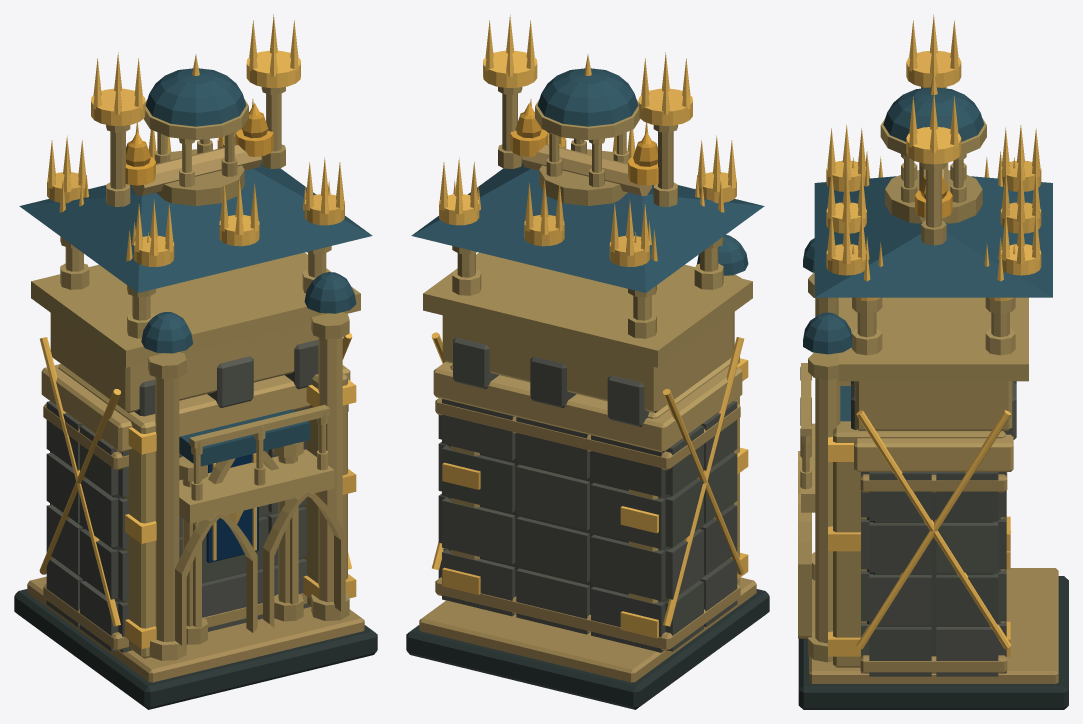
3 renders of one model, left to right at view 1: azimuth 30°, elevation 25°; view 2: azimuth 150°, elevation 25°; view 3: azimuth 270°, elevation 25°, orthographic.
Visible parts, largest first — view 1: wall_L13_0, wall_L13_1; view 2: wall_L13_0, wall_L13_1; view 3: wall_L13_0, wall_L13_1.
Boxes of the visible parts, box(x1,y1,x2,y2) form: wall_L13_0: box(14, 68, 377, 709); wall_L13_1: box(39, 14, 356, 648); wall_L13_0: box(406, 68, 769, 709); wall_L13_1: box(431, 14, 748, 638); wall_L13_0: box(798, 87, 1068, 709); wall_L13_1: box(826, 14, 1041, 656).
Size of the model in its own units: 1.9 by 4.51 by 1.87.
